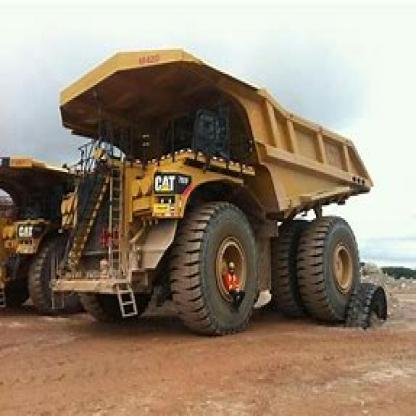dump_truck: (53, 42, 380, 333)
